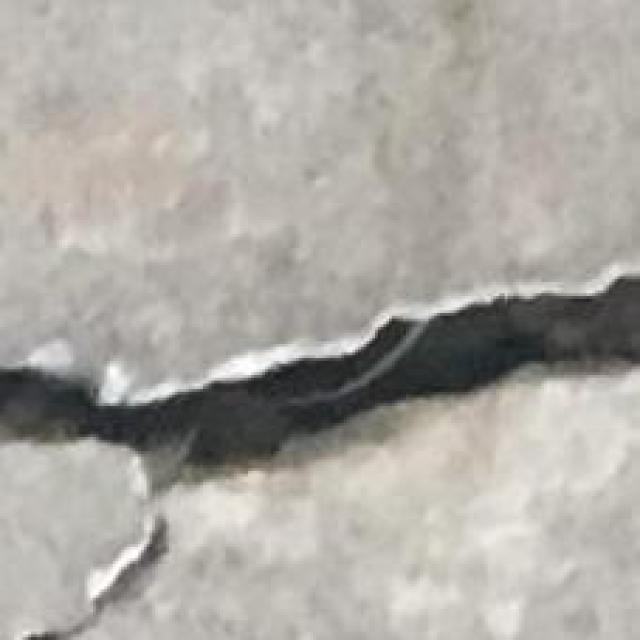branched cracks: (0, 274, 639, 639)
